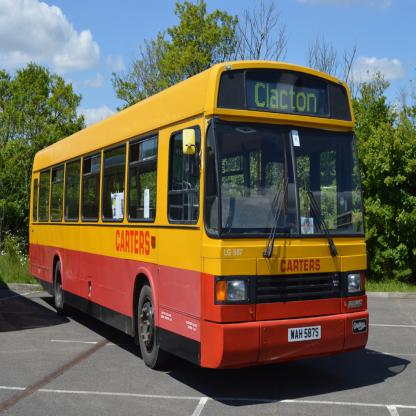Bus: (29, 60, 369, 369)
